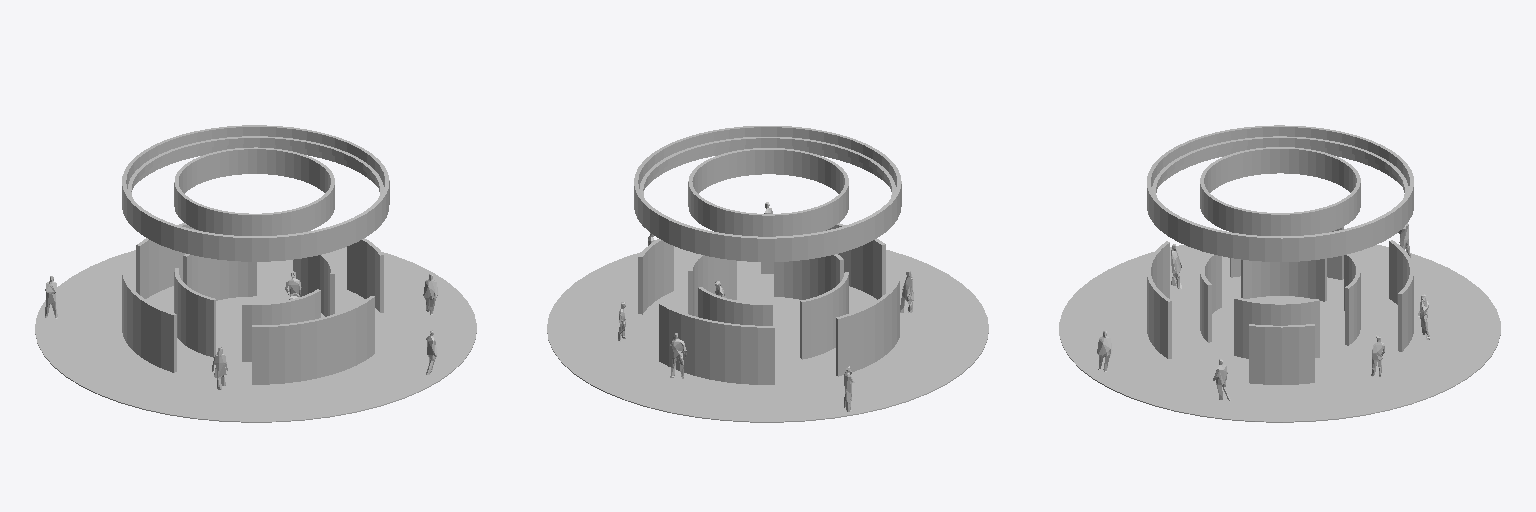
File: mainbooth.obj
3 renders of one model, left to right at view 1: azimuth 30°, elevation 25°; view 2: azimuth 150°, elevation 25°; view 3: azimuth 270°, elevation 25°, orthographic.
Parts seen in each view (by area): view 1: CU.001; view 2: CU.001; view 3: CU.001.
Part boxes in pixels (x1,y1,x2,y2): CU.001: (35,125,476,422); CU.001: (547,126,988,422); CU.001: (1059,125,1500,422).
Size of the model in its own units: 16.52 by 6.16 by 16.5.